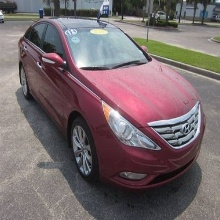no damage: (17, 17, 206, 193)
